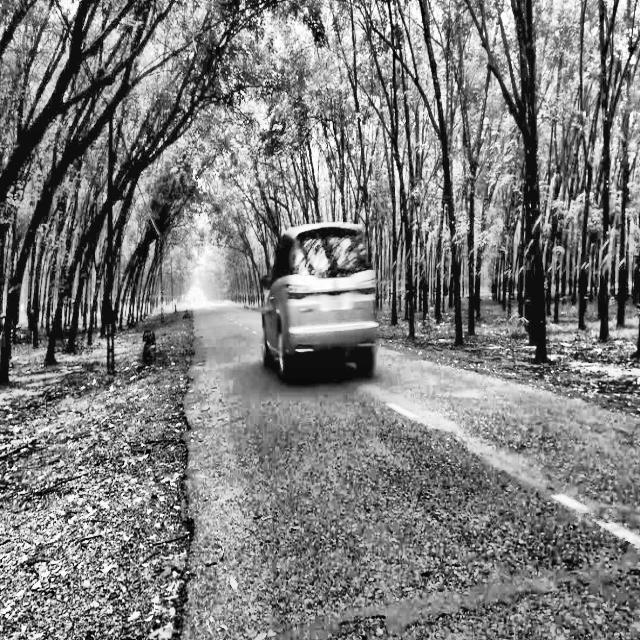automobile: (260, 220, 377, 385)
